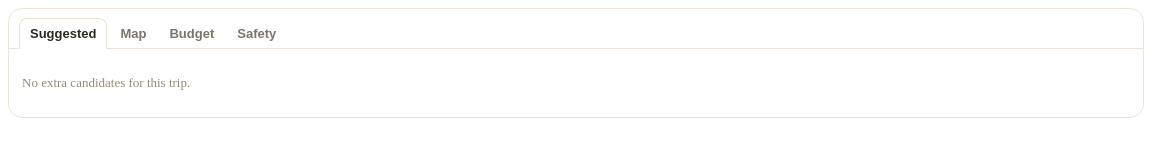
Test: Safety tab humanizes advisory[].type (no raw snake_case keys) › renders "median_delay" as "Median Delay", not the raw key
What coordinates should you click on to do the following:
click the button "Safety"
I would click on:
 (257, 33)
Its box is [227,18,286,48].
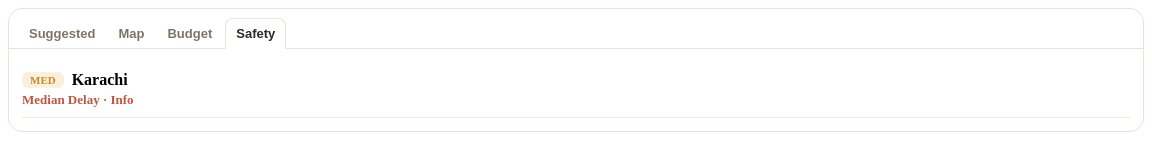
Now the element with test id "advisory" shows "Median Delay", box [22,92,100,107]
